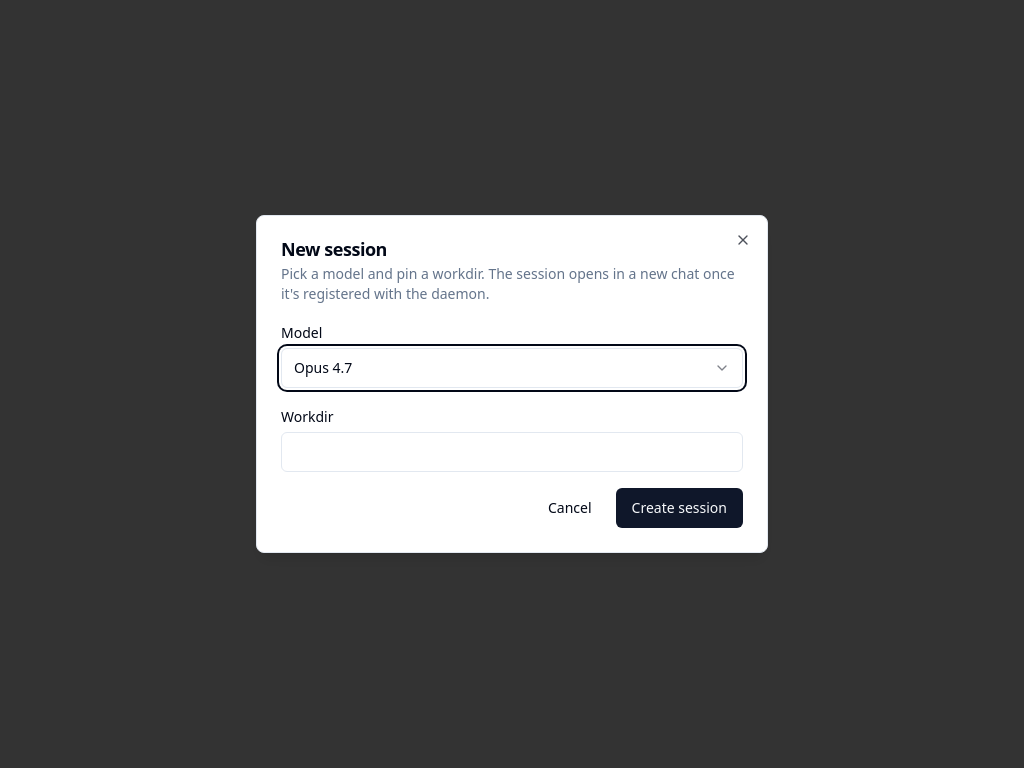
<NewSessionDialog> › blocks submit and surfaces error when workdir is empty
This screenshot has width=1024, height=768.
Step 1. Click the button with test id "new-session-submit" → (679, 508), box [616,488,743,528]
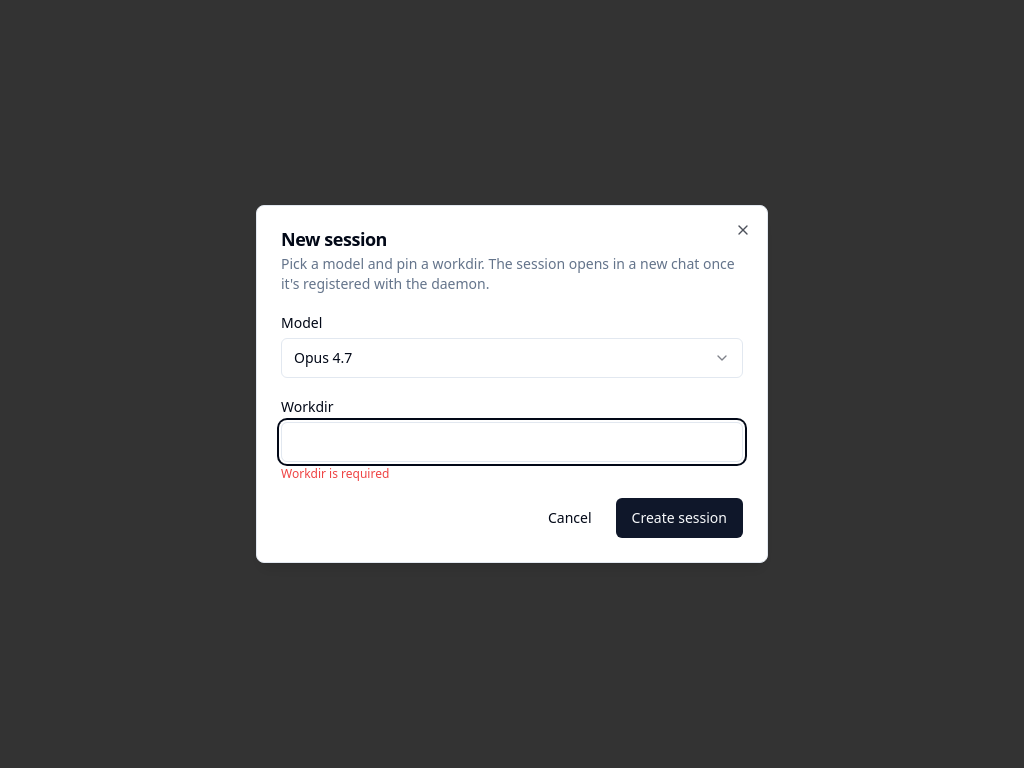
Result: the message "Workdir is required" is shown at [281,465,389,482]
